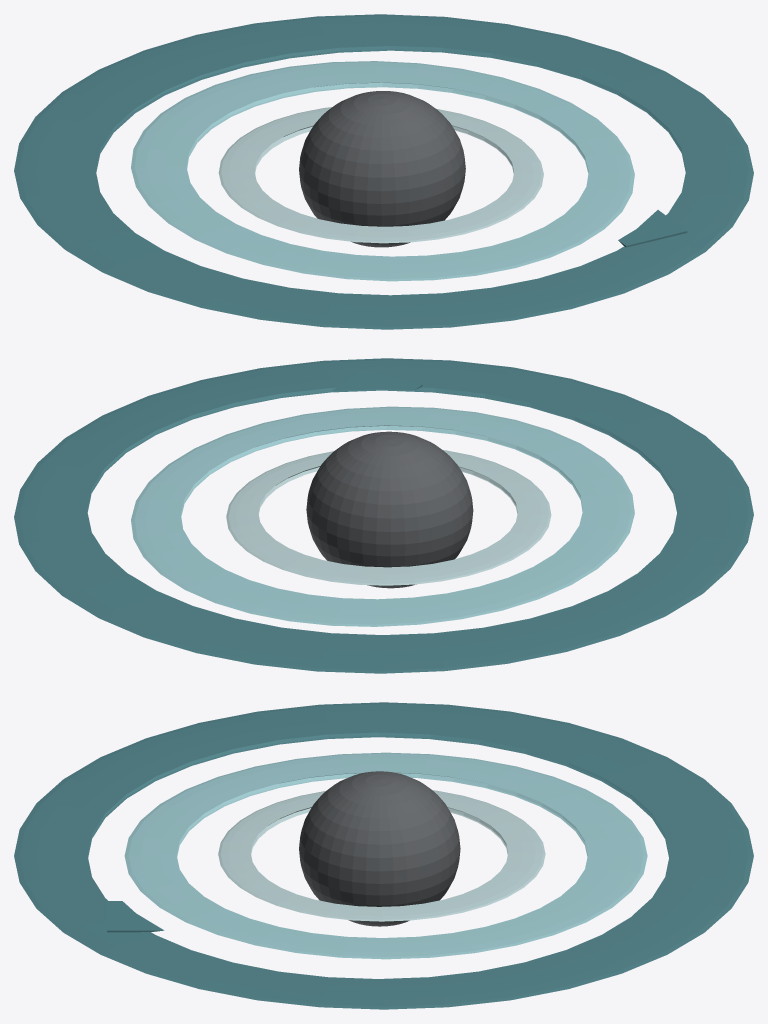
File: AliceRingplanet.glb
3 views of the same model, one above another, from view 1: azimuth 30°, elevation 25°; view 2: azimuth 150°, elevation 25°; view 3: azimuth 270°, elevation 25° (orthographic).
Parts seen in each view (by area): view 1: Mesh_Mesh_head_geo.001_lambert2SG.001; view 2: Mesh_Mesh_head_geo.001_lambert2SG.001; view 3: Mesh_Mesh_head_geo.001_lambert2SG.001.
Boxes of the visible parts, box(x1,y1,x2,y2) form: Mesh_Mesh_head_geo.001_lambert2SG.001: box(14, 14, 753, 329); Mesh_Mesh_head_geo.001_lambert2SG.001: box(14, 358, 753, 673); Mesh_Mesh_head_geo.001_lambert2SG.001: box(14, 702, 753, 1009).
Size of the model in its own units: 171 by 36 by 174.
